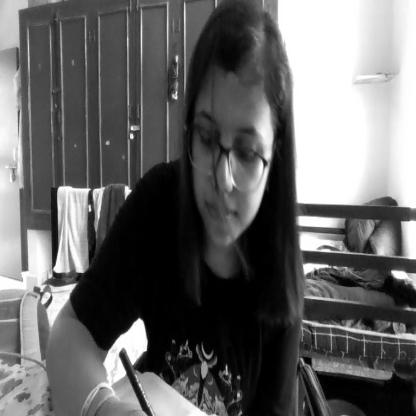Normal: (191, 0, 292, 270)
